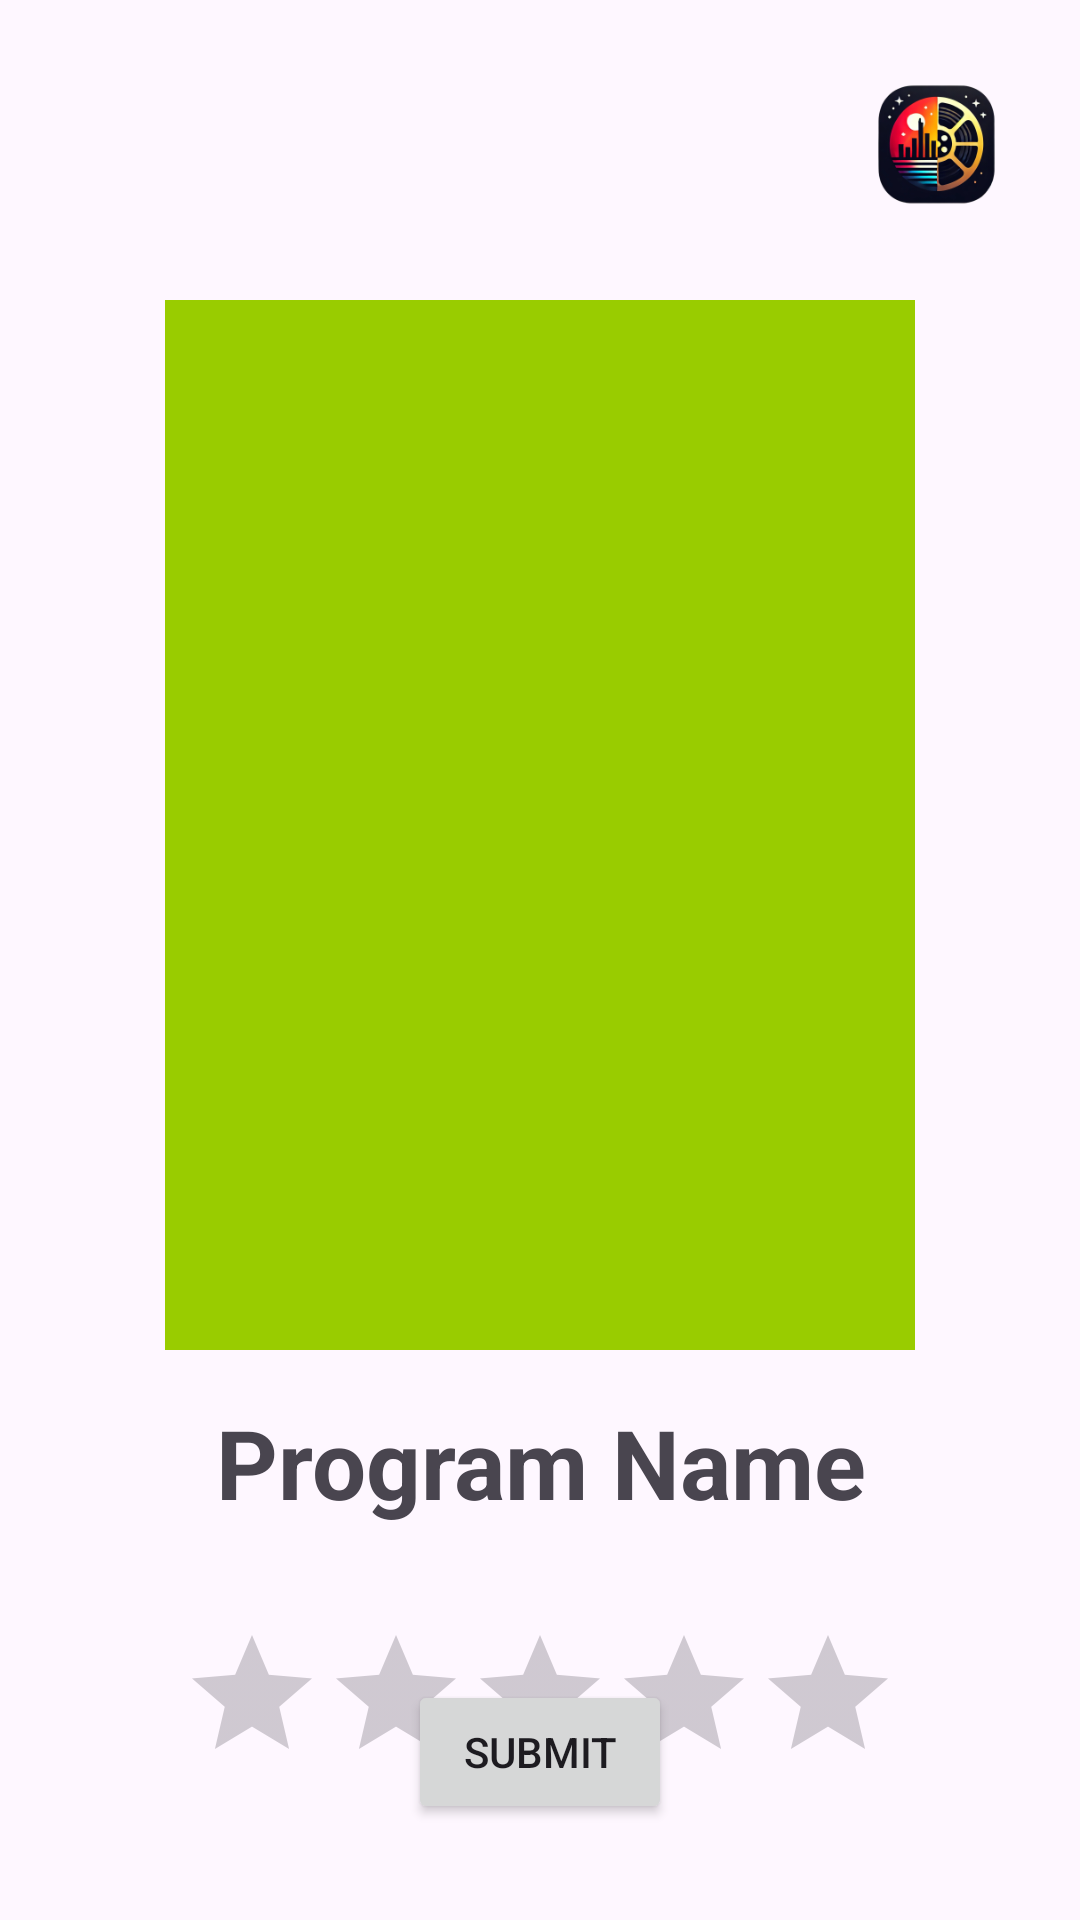

Icon bounding boxes for this 1080 x 1920 phone screenshot, format bbox=[x1, y1, x2, y2]:
app: bbox=[878, 85, 995, 204]
